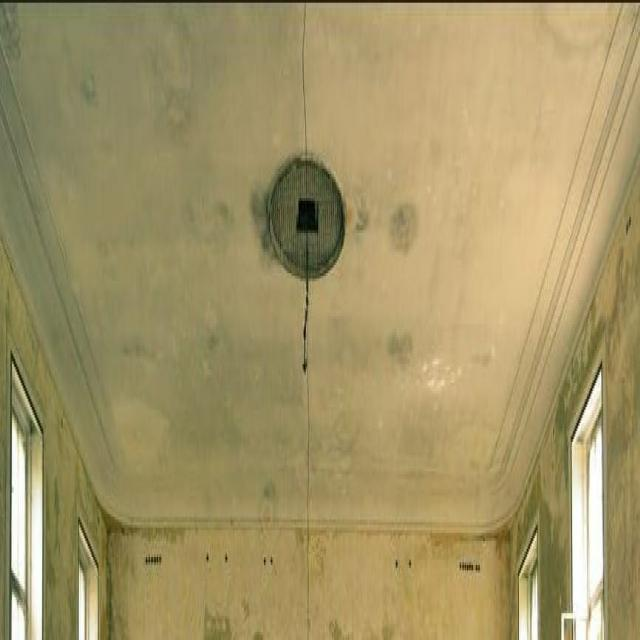Crack: (302, 232, 318, 521), (298, 2, 312, 195), (298, 193, 322, 240)
leak: (107, 201, 303, 464), (145, 11, 216, 151), (526, 6, 640, 71), (392, 189, 418, 258), (386, 324, 416, 372), (76, 74, 99, 101)
